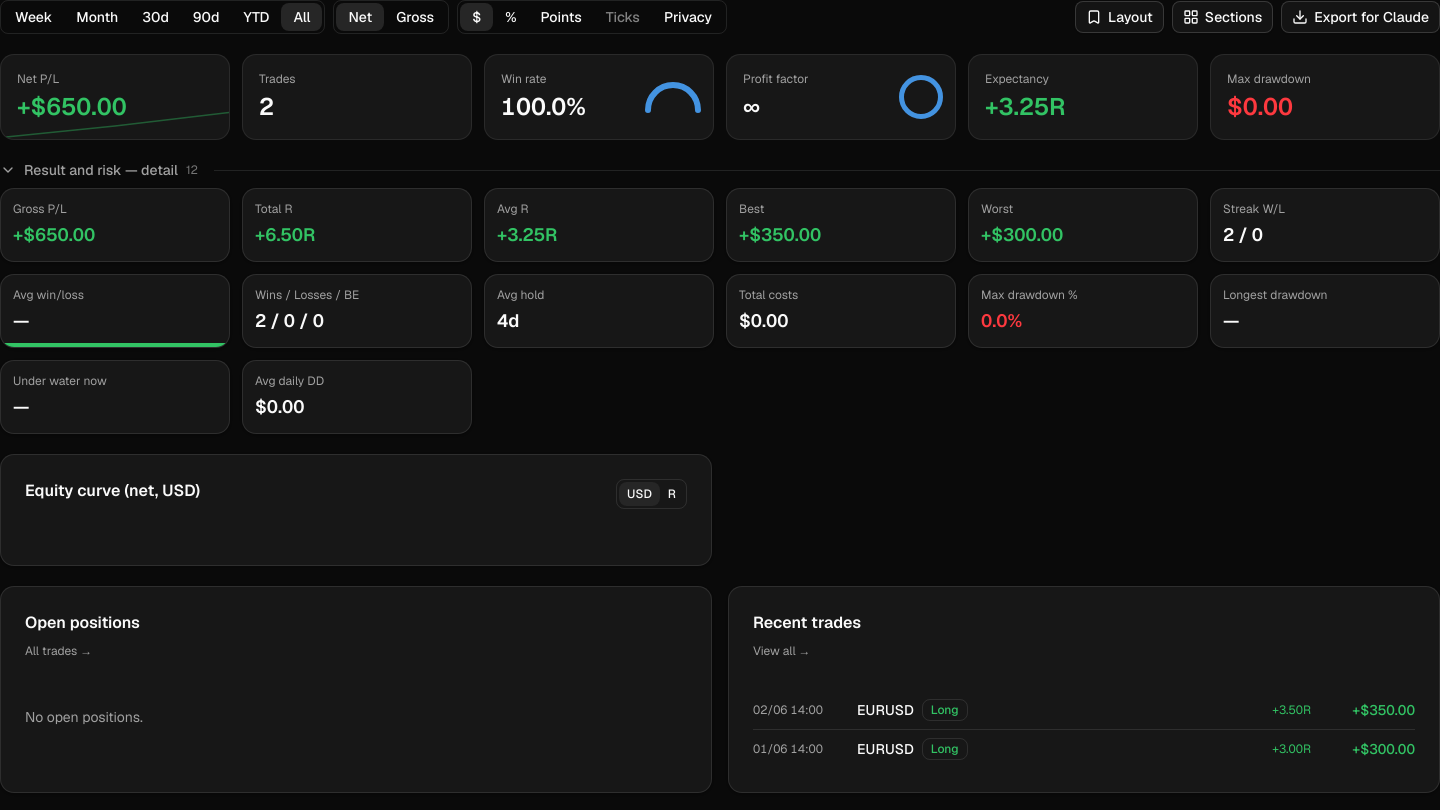
Test case: the view-mode switcher reuses the /reports units layer, not a second design › the equity card's R toggle is live and switches the curve to R
The width and height of the screenshot is (1440, 810).
Click the button "R" at x=672, y=494, box [660,482,684,506]
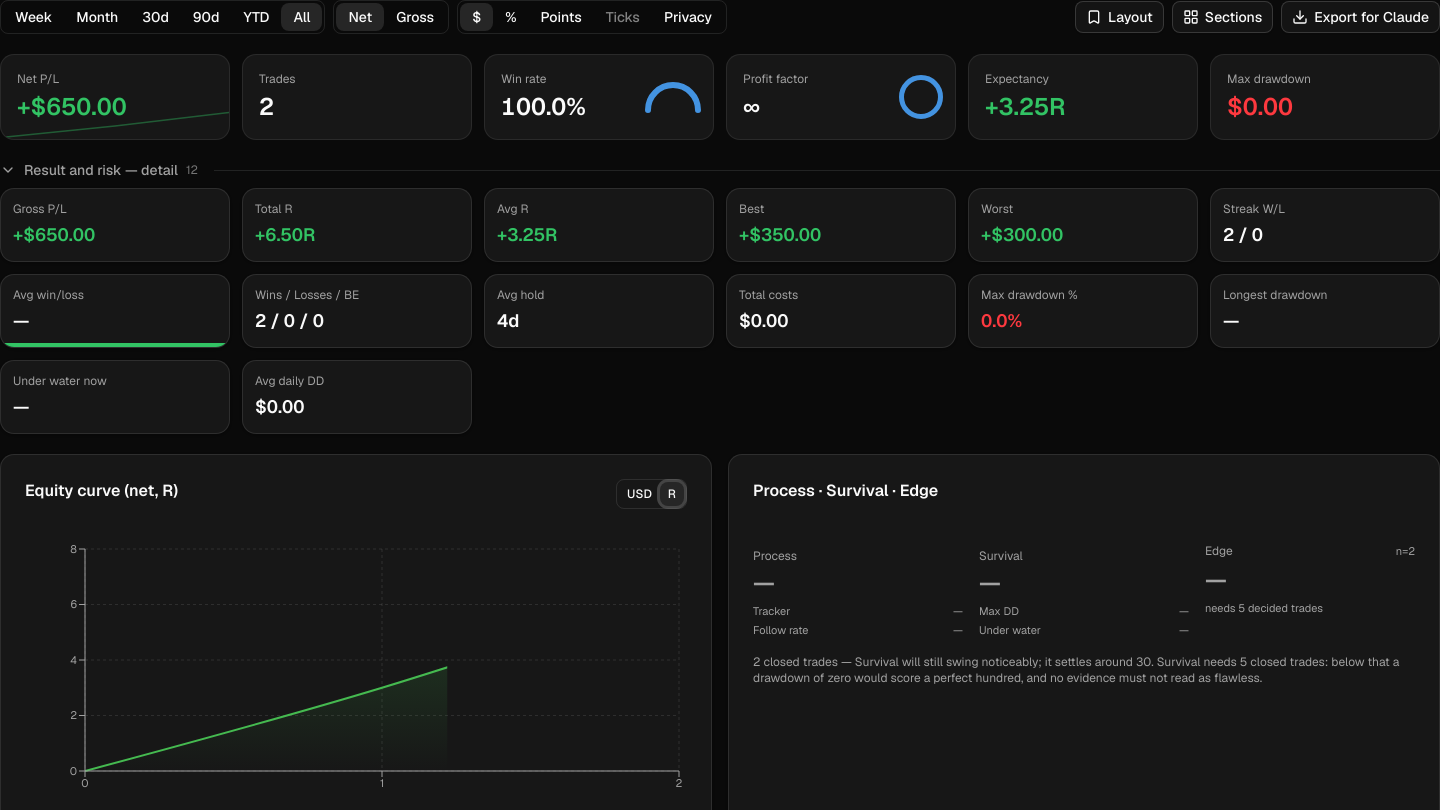
Expected: the text "Equity curve (net, R)" is shown, [25,479,178,503]
